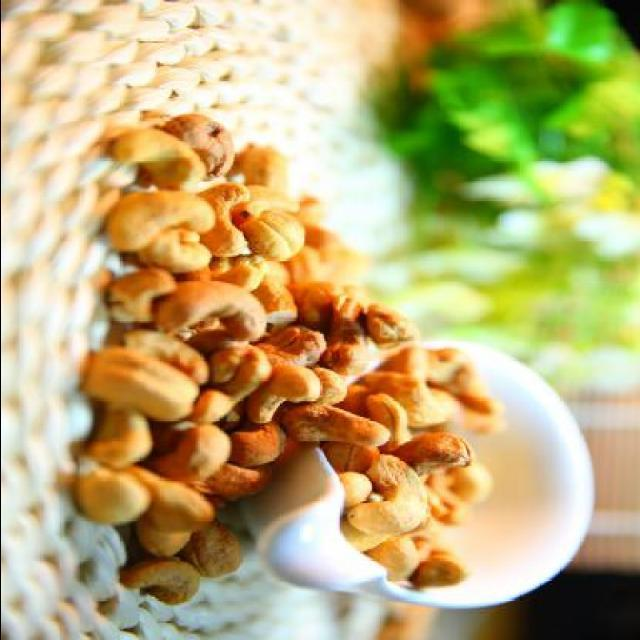Frutta secca: (66, 111, 500, 612)
